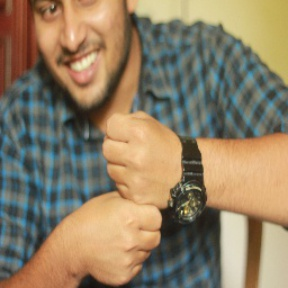G: (67, 106, 181, 288)
